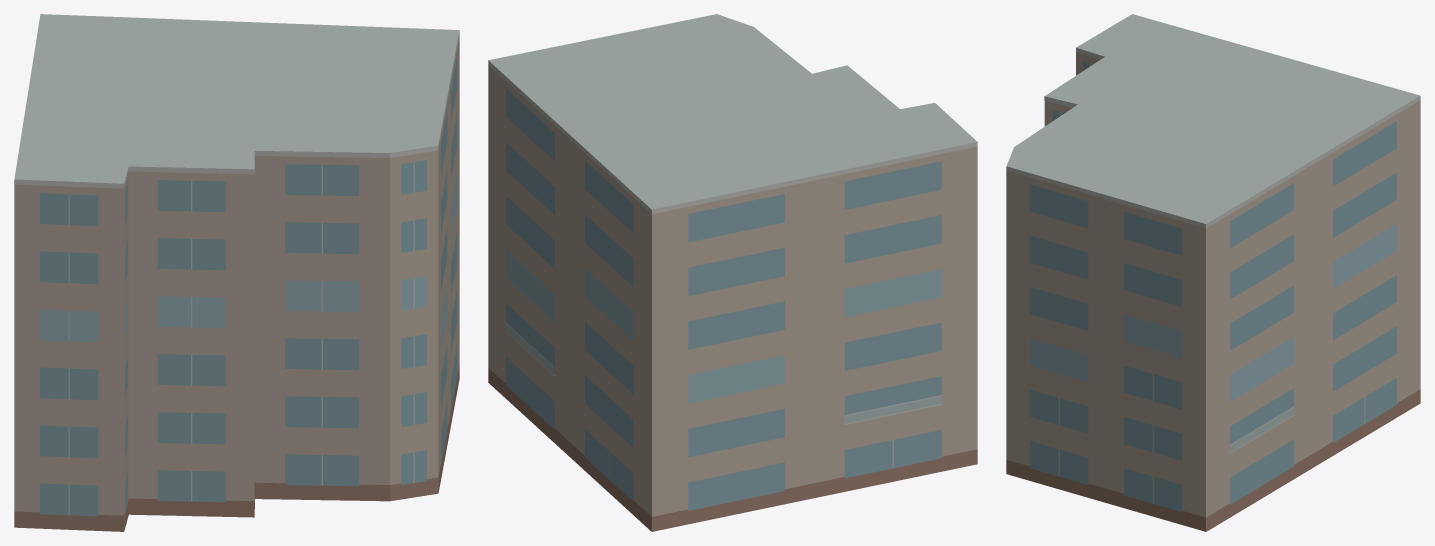
The model's file is survey-upis-32970982.glb.
The picture shows the model from 3 angles, left to right: view 1: azimuth 30°, elevation 25°; view 2: azimuth 150°, elevation 25°; view 3: azimuth 270°, elevation 25°; orthographic projection. The views are drawn at different scales.
Visible parts, largest first — view 1: survey-upis-32970982.tmp; view 2: survey-upis-32970982.tmp; view 3: survey-upis-32970982.tmp.
Part boxes in pixels (x1,y1,x2,y2): survey-upis-32970982.tmp: (14,14,459,531); survey-upis-32970982.tmp: (488,14,977,531); survey-upis-32970982.tmp: (1006,14,1420,531).
Bounding box in the file's own units: 24.9 × 17 × 20.74.
